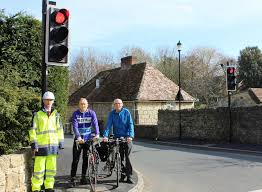signal: (47, 6, 69, 63)
